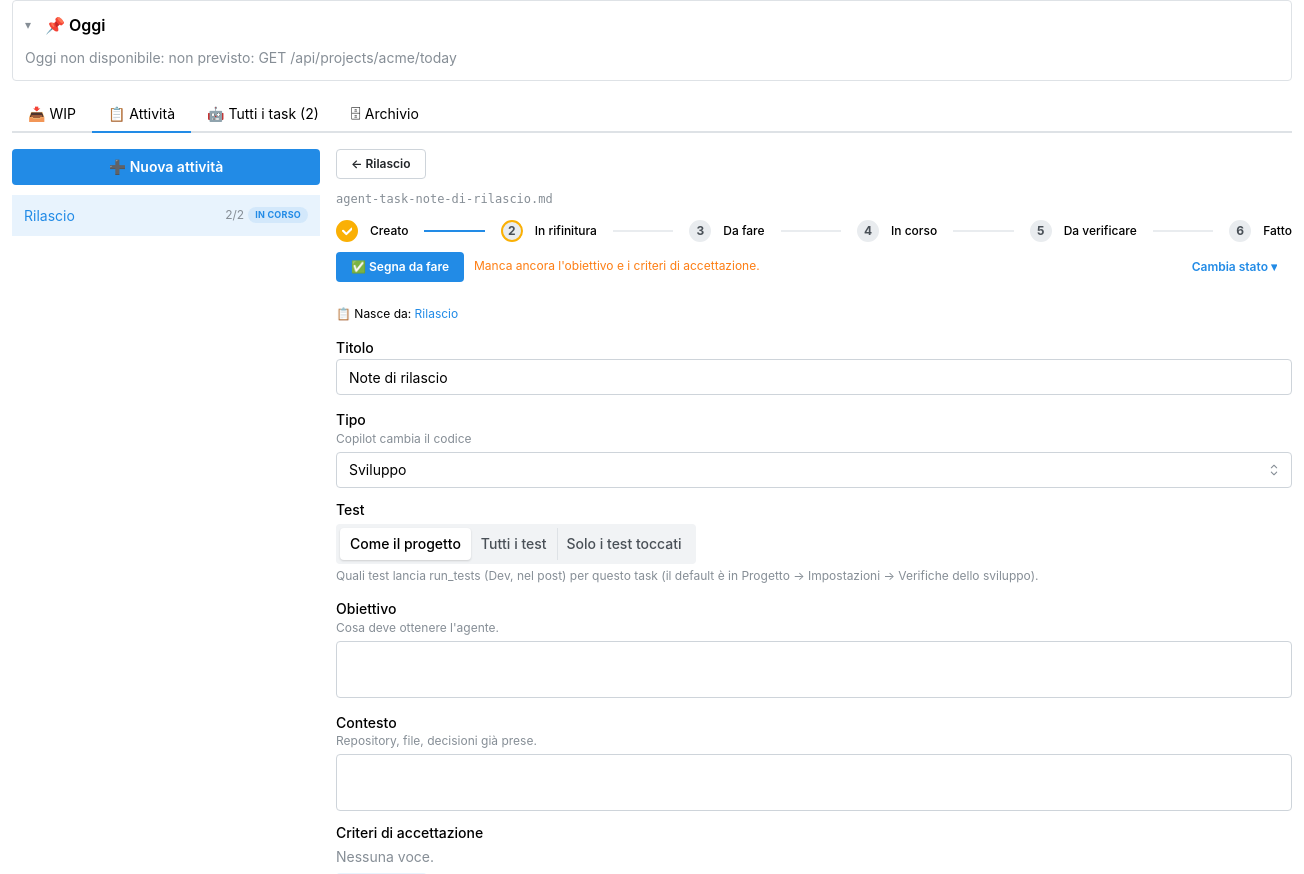
activities › an activity's task opens inside the activity, which it says it is born from
Expected: the field showing "Note di rilascio" is shown, x1=336 y1=360 x2=1292 y2=396
Expected: the tab "📋 Attività" is shown, x1=92 y1=97 x2=191 y2=133
Click the button "← Rilascio" at (381, 164), box x1=336 y1=149 x2=426 y2=179
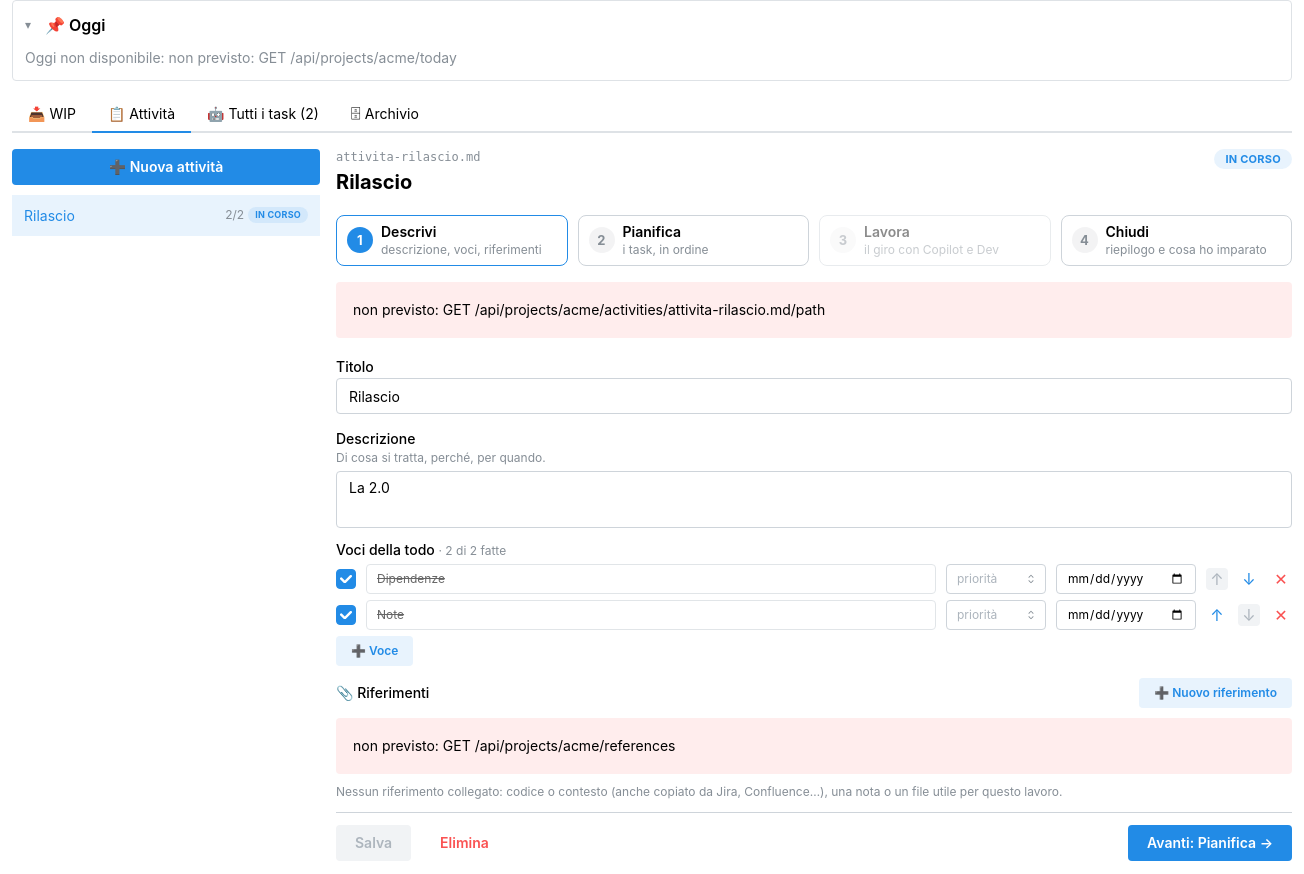
Expected: the tab "📋 Attività" is shown, x1=92 y1=97 x2=191 y2=133
Expected: the text box showing "La 2.0" is shown, x1=336 y1=471 x2=1292 y2=528
